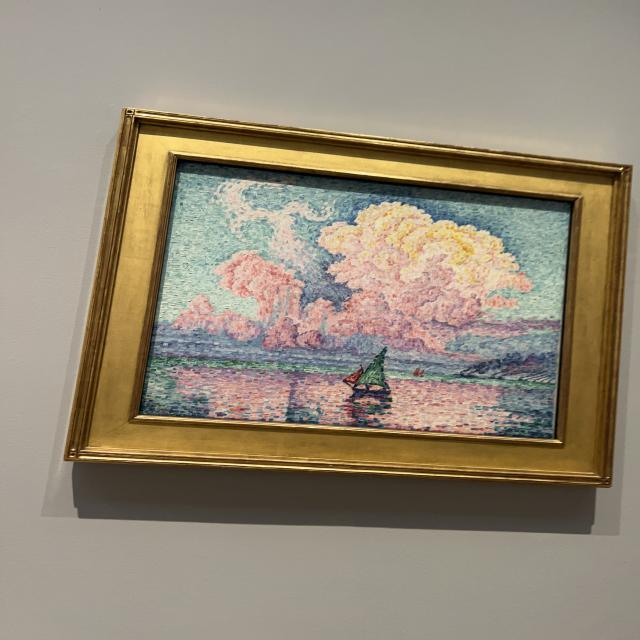sunrise: (144, 167, 569, 435)
